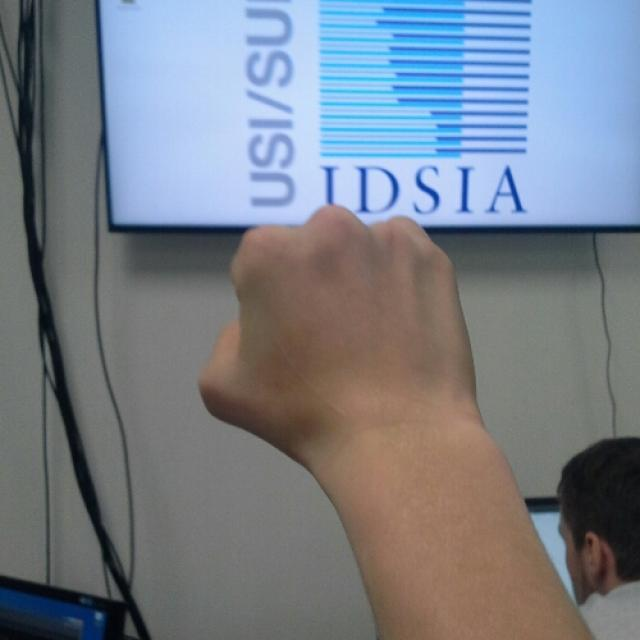rock: (201, 205, 476, 480)
